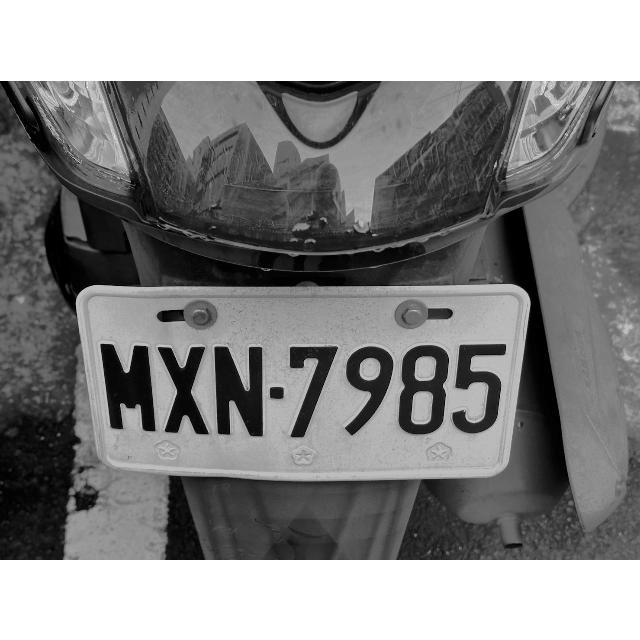-: (268, 382, 286, 406)
5: (451, 338, 509, 438)
7: (287, 339, 339, 445)
8: (396, 342, 449, 438)
9: (343, 339, 397, 439)
M: (95, 335, 157, 435)
N: (214, 342, 268, 442)
X: (157, 340, 211, 440)
